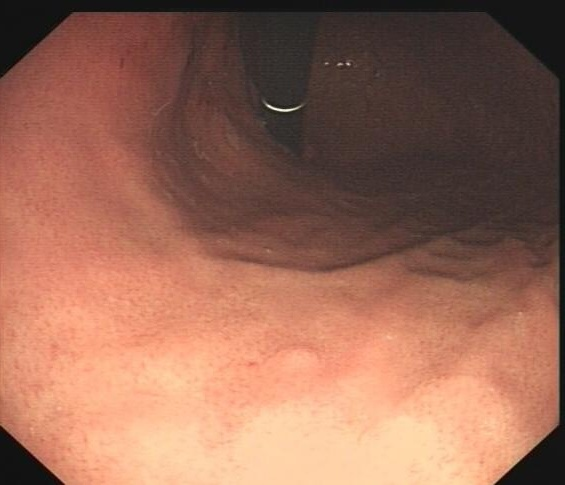Polyp: (253, 331, 349, 383)
